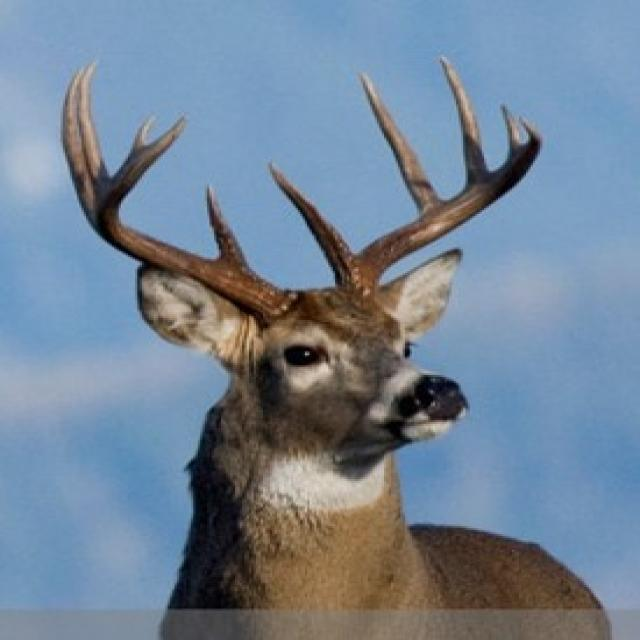E1: (131, 115, 156, 154)
L-F: (335, 115, 545, 296)
L-G1: (266, 159, 356, 275)
L-G2: (357, 71, 444, 216)
L-G3: (438, 54, 487, 184)
L-G4: (500, 104, 522, 158)
R-F: (93, 114, 301, 331)
R-G1: (204, 185, 249, 266)
R-G2: (59, 69, 94, 226)
R-G3: (76, 61, 110, 192)
